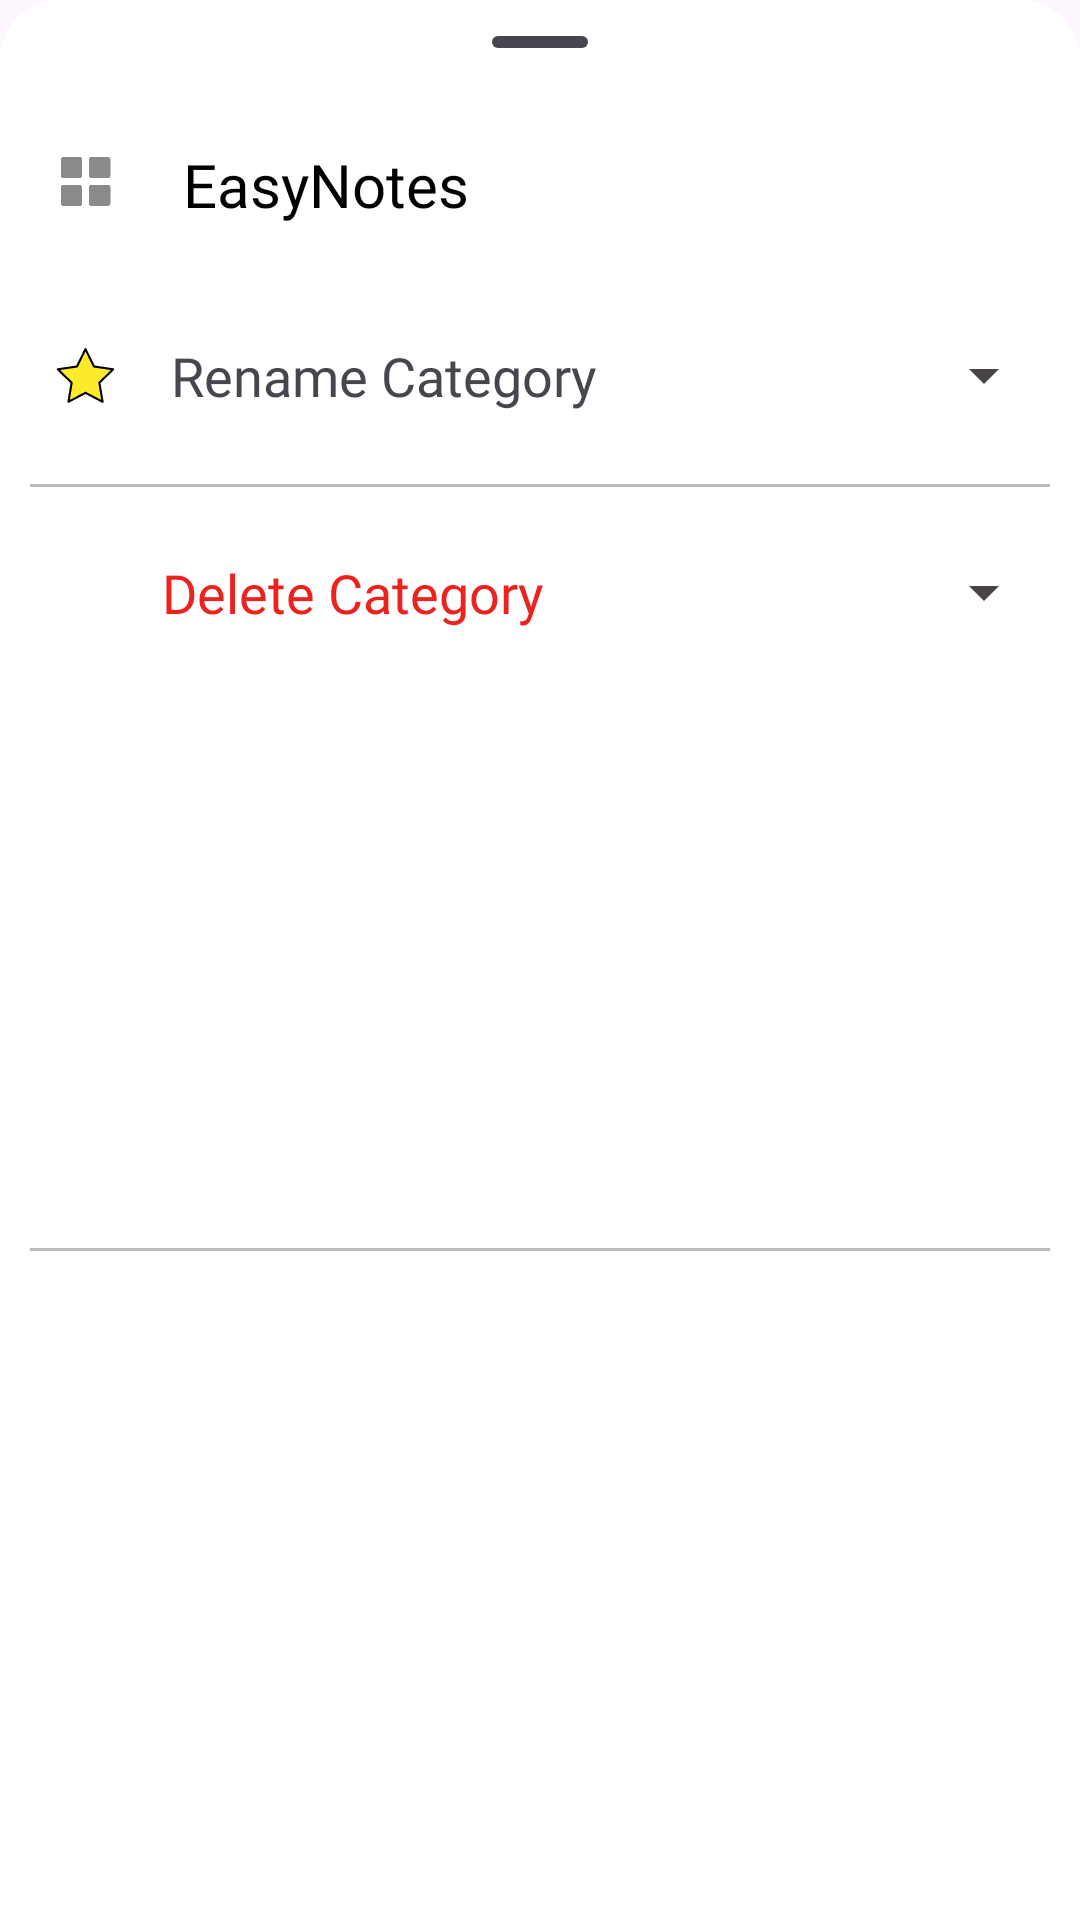

Icons on this 1080w x 1920h Android screen, each with its box as (x1, y1, x2, y2):
star edit: (56, 348, 115, 403)
